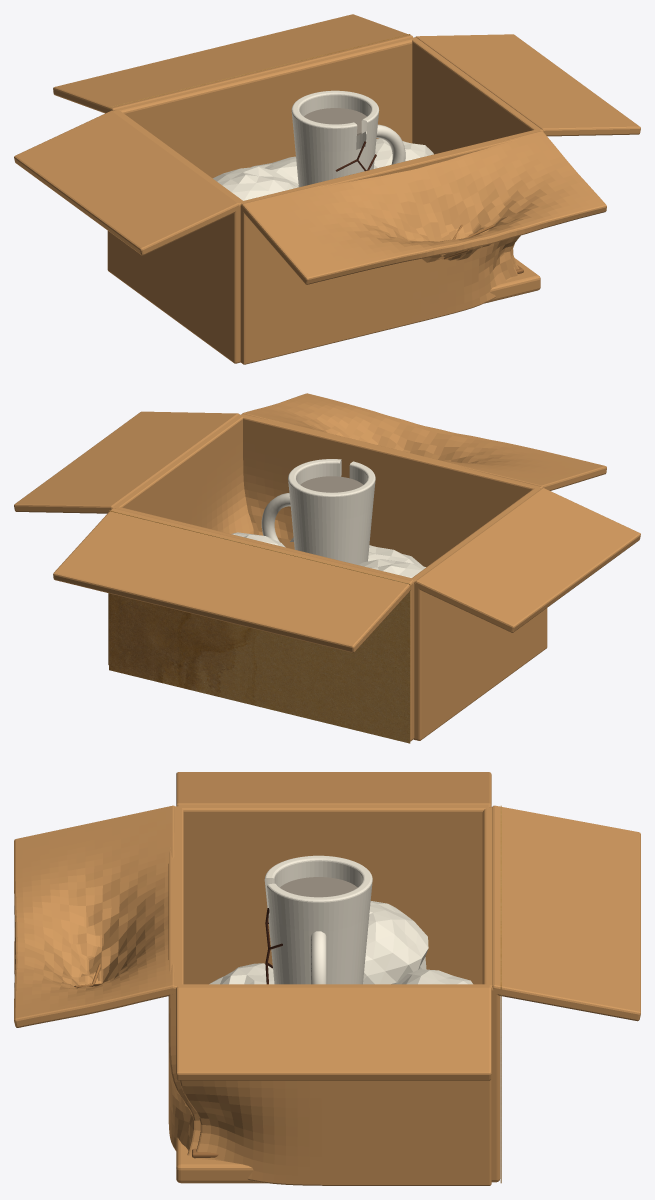
The model's file is damaged_box_blender.glb.
3 views of the same model, one above another, from view 1: azimuth 30°, elevation 25°; view 2: azimuth 150°, elevation 25°; view 3: azimuth 270°, elevation 25° (orthographic). The views are drawn at different scales.
Parts seen in each view (by area): view 1: FrontFlap_DeepCompressionDent, FrontWall_DentedCorner, BackWall, LeftOpenFlap, LeftWall, BackOpenFlap, RightOpenFlap, RightWall_DentedCorner, CrackedMug, CrumpledPaper_1, BoxBottom, MugInterior (+3 smaller); view 2: BackOpenFlap, BackWall_Wet, FrontWall_DentedCorner, LeftOpenFlap, LeftWall, FrontFlap_DeepCompressionDent, RightOpenFlap, RightWall_DentedCorner, CrackedMug, BackWall, MugInterior, CrumpledPaper_1 (+2 smaller); view 3: LeftWall, RightWall_DentedCorner, FrontFlap_DeepCompressionDent, RightOpenFlap, BackOpenFlap, CrackedMug, LeftOpenFlap, FrontWall_DentedCorner, CrumpledPaper_1, BackWall, BoxBottom, MugInterior (+4 smaller).
Part boxes in pixels (left/top/right/bottom): FrontFlap_DeepCompressionDent: left=241, top=131, right=606, bottom=284; FrontWall_DentedCorner: left=240, top=129, right=541, bottom=364; BackWall: left=113, top=37, right=412, bottom=178; LeftOpenFlap: left=14, top=110, right=239, bottom=255; LeftWall: left=107, top=110, right=243, bottom=363; BackOpenFlap: left=53, top=14, right=412, bottom=113; RightOpenFlap: left=416, top=34, right=640, bottom=136; RightWall_DentedCorner: left=412, top=37, right=543, bottom=274; CrackedMug: left=291, top=90, right=379, bottom=187; CrumpledPaper_1: left=213, top=166, right=298, bottom=200; BoxBottom: left=484, top=258, right=540, bottom=303; MugInterior: left=304, top=108, right=366, bottom=135; BackOpenFlap: left=53, top=508, right=413, bottom=652; BackWall_Wet: left=109, top=510, right=410, bottom=743; FrontWall_DentedCorner: left=240, top=414, right=544, bottom=567; LeftOpenFlap: left=415, top=488, right=640, bottom=632; LeftWall: left=411, top=487, right=547, bottom=740; FrontFlap_DeepCompressionDent: left=242, top=393, right=606, bottom=490; RightOpenFlap: left=14, top=411, right=238, bottom=513; RightWall_DentedCorner: left=108, top=414, right=253, bottom=664; CrackedMug: left=288, top=459, right=375, bottom=564; BackWall: left=115, top=507, right=414, bottom=741; MugInterior: left=300, top=476, right=362, bottom=492; CrumpledPaper_1: left=358, top=559, right=425, bottom=577; LeftWall: left=176, top=805, right=491, bottom=984; RightWall_DentedCorner: left=176, top=984, right=491, bottom=1185; FrontFlap_DeepCompressionDent: left=14, top=805, right=174, bottom=1027; RightOpenFlap: left=176, top=987, right=491, bottom=1080; BackOpenFlap: left=492, top=805, right=640, bottom=1021; CrackedMug: left=264, top=855, right=372, bottom=984; LeftOpenFlap: left=176, top=772, right=491, bottom=806; FrontWall_DentedCorner: left=168, top=806, right=200, bottom=1155; CrumpledPaper_1: left=363, top=901, right=428, bottom=984; BackWall: left=482, top=807, right=500, bottom=1182; BoxBottom: left=176, top=1137, right=266, bottom=1183; MugInterior: left=280, top=877, right=357, bottom=897.
Size of the model in its own units: 5.65 by 1.9 by 4.97.
8 materials, 1 textured.
